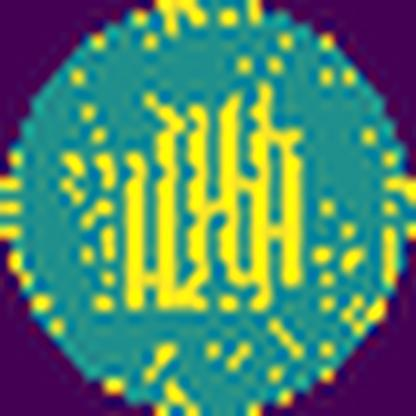Center: (94, 92, 302, 318)
